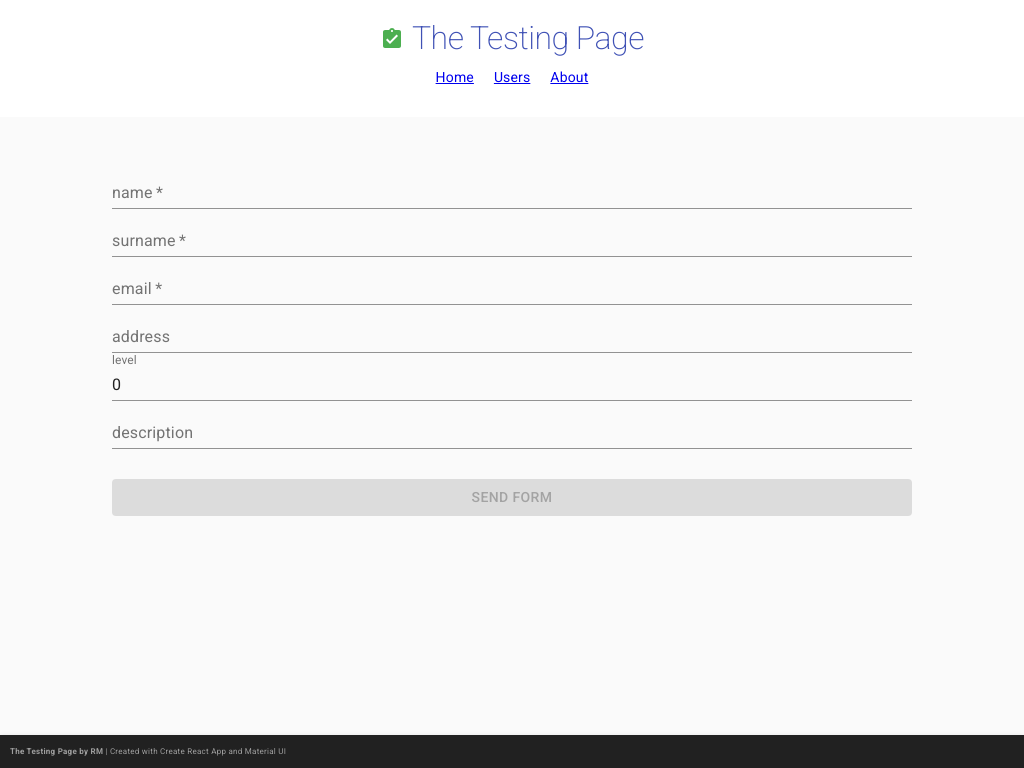
Test case: UserAdd › Brak rejestracji i sprawdzenie wielkości tabeli
The width and height of the screenshot is (1024, 768).
Click the link to "/users". click: (513, 77)
box: [494,69,531,85]
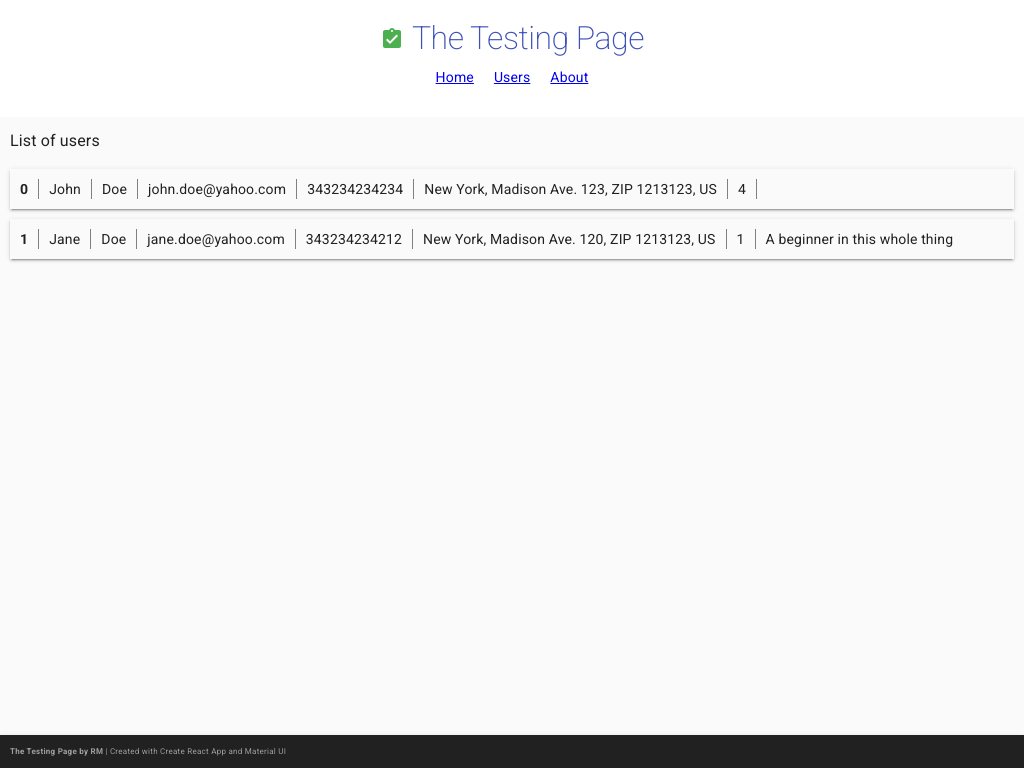
Result: the number of list items is 2 at [10,169,1014,209]; [10,219,1014,259]
